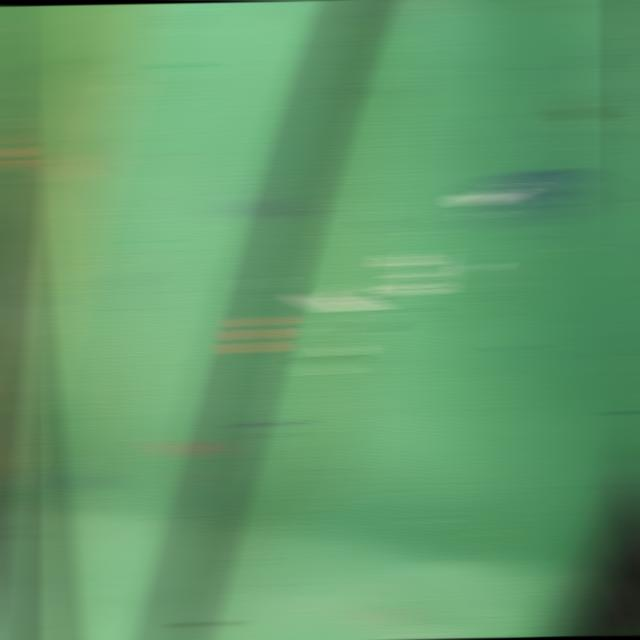red: (231, 316, 280, 354)
